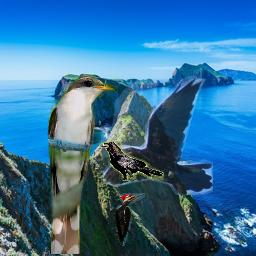Crow: (101, 76, 213, 195), (99, 141, 164, 181)
Cuckoo: (46, 75, 118, 254)
Woodpecker: (112, 193, 145, 246)
